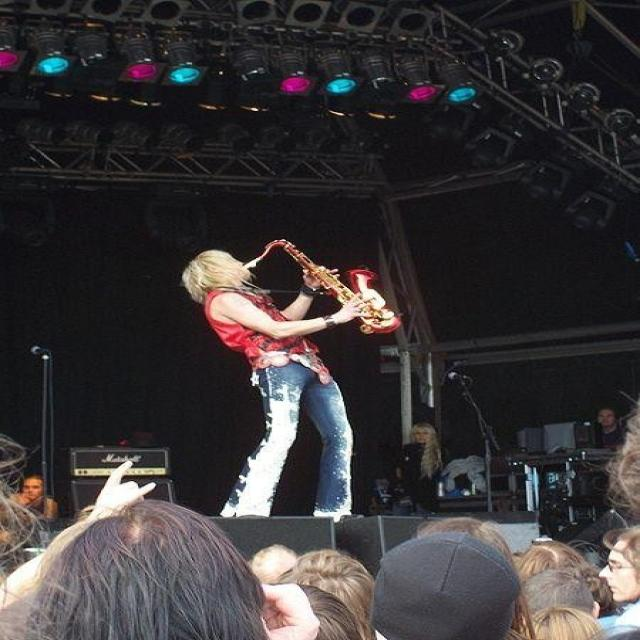saxophone: (235, 236, 409, 335)
